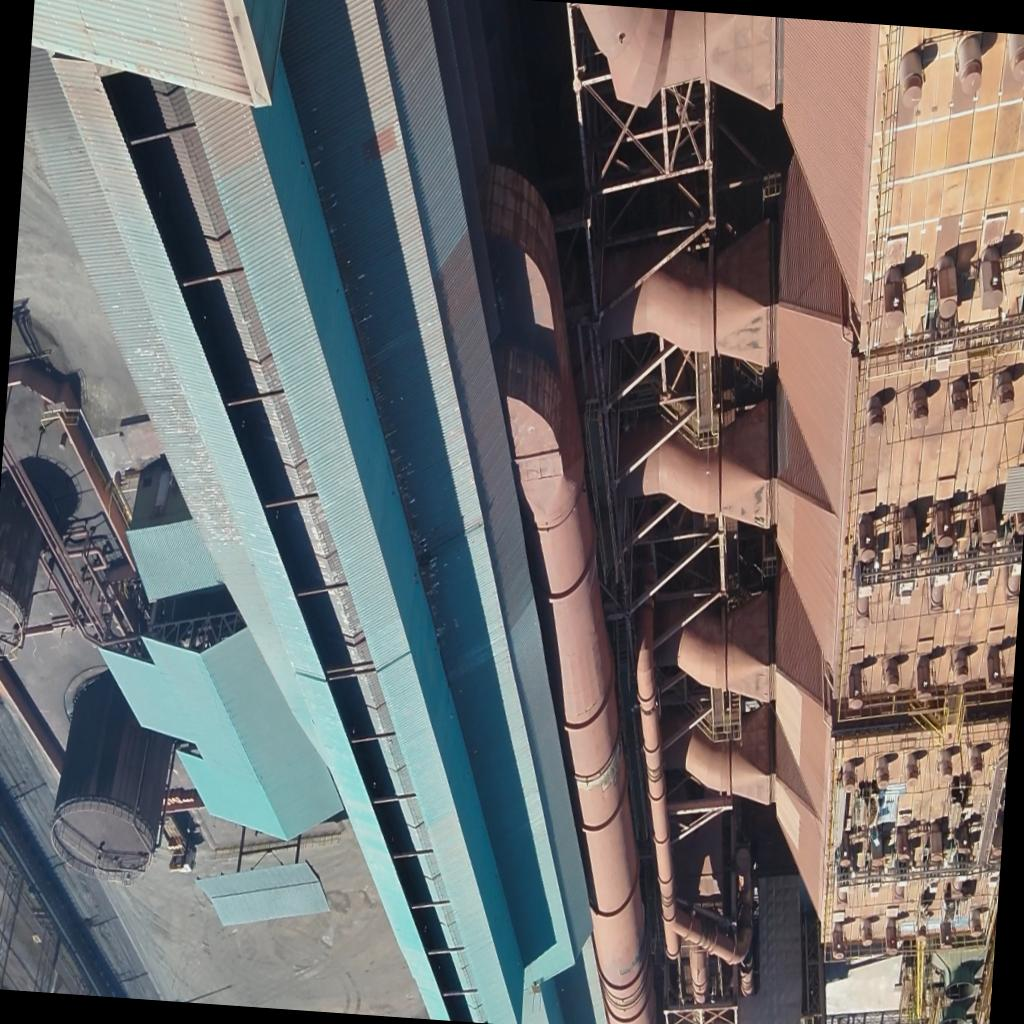Failures: (570, 758, 620, 799), (620, 936, 646, 978)
